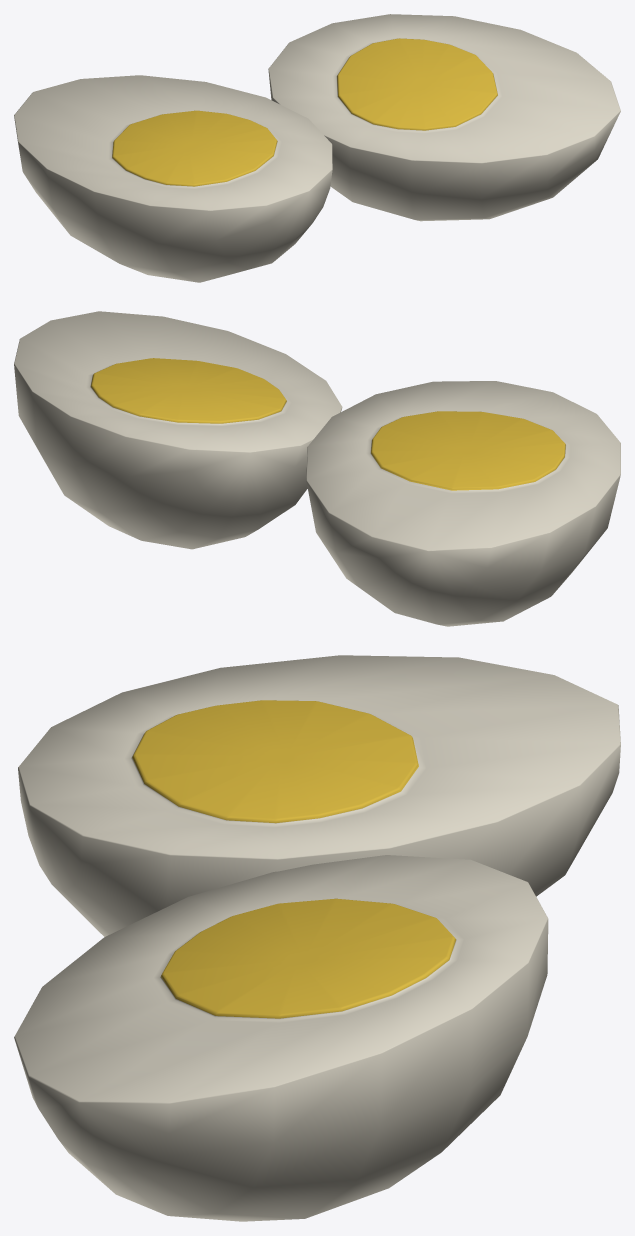
The model's file is eggs.fbx.
3 renders of one model, top to bottom at view 1: azimuth 30°, elevation 25°; view 2: azimuth 150°, elevation 25°; view 3: azimuth 270°, elevation 25°, orthographic. The views are drawn at different scales.
Visible parts, largest first — view 1: hardboiledegg, hardboiledegg.001; view 2: hardboiledegg.001, hardboiledegg; view 3: hardboiledegg, hardboiledegg.001.
Part boxes in pixels (box(x1,y1,x2,y2)): hardboiledegg: box(268, 14, 620, 221); hardboiledegg.001: box(14, 75, 332, 282); hardboiledegg.001: box(306, 381, 620, 626); hardboiledegg: box(14, 311, 342, 549); hardboiledegg: box(14, 855, 548, 1221); hardboiledegg.001: box(18, 655, 620, 936).
Size of the model in its own units: 74.83 by 19.5 by 43.27.
